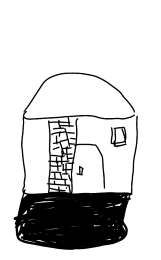door: (65, 135, 111, 197)
open_window: (105, 124, 131, 150)
roof: (18, 62, 142, 126)
shadow: (11, 188, 137, 252)
wall: (14, 112, 143, 196)
